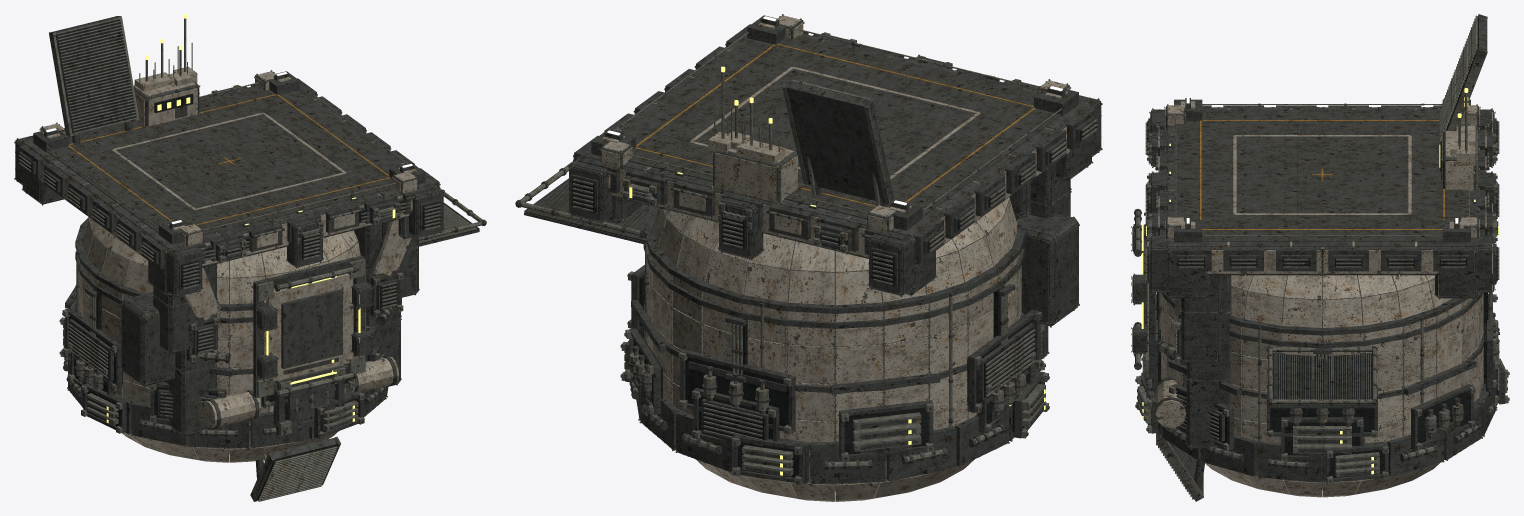
File: buoy.glb
3 renders of one model, left to right at view 1: azimuth 30°, elevation 25°; view 2: azimuth 150°, elevation 25°; view 3: azimuth 270°, elevation 25°, orthographic. The views are drawn at different scales.
Visible parts, largest first — view 1: static/landing-grey, static/dark-structure, static/cladding-dark-structure, static/machined-alloy, static/cladding-armour-1, static/recess-black, static/armour-1, static/blue-grey-1, static/cladding-armour-2, static/cladding-armour-0, static/cladding-armour-3, static/cladding-blue-grey-2 (+4 smaller); view 2: static/dark-structure, static/landing-grey, static/cladding-armour-1, static/cladding-dark-structure, static/machined-alloy, static/cladding-armour-0, static/recess-black, static/cladding-armour-2, static/cladding-armour-3, static/armour-1, static/cladding-blue-grey-2, static/service-ochre (+2 smaller); view 3: static/landing-grey, static/dark-structure, static/cladding-dark-structure, static/machined-alloy, static/cladding-armour-1, static/recess-black, static/cladding-armour-0, static/cladding-armour-3, static/armour-1, static/cladding-armour-2, static/cladding-blue-grey-1, static/cladding-blue-grey-0 (+3 smaller).
Boxes of the visible parts, x1,y1,x2,y2 form: static/landing-grey: (47,87,402,235); static/dark-structure: (15,16,486,500); static/cladding-dark-structure: (15,71,443,448); static/machined-alloy: (14,16,483,501); static/cladding-armour-1: (40,71,435,462); static/recess-black: (19,19,478,499); static/armour-1: (42,66,416,428); static/blue-grey-1: (281,289,342,421); static/cladding-armour-2: (79,91,345,396); static/cladding-armour-0: (54,99,372,425); static/cladding-armour-3: (40,86,409,411); static/cladding-blue-grey-2: (24,140,434,248); static/dark-structure: (515,15,1101,491); static/landing-grey: (620,35,1061,219); static/cladding-armour-1: (601,15,1069,501); static/cladding-dark-structure: (569,16,1101,483); static/machined-alloy: (519,14,1102,485); static/cladding-armour-0: (646,89,1052,421); static/recess-black: (525,63,1096,477); static/cladding-armour-2: (617,73,1021,419); static/cladding-armour-3: (653,40,1070,438); static/armour-1: (602,21,1067,213); static/cladding-blue-grey-2: (727,33,1090,236); static/service-ochre: (635,43,1035,206); static/landing-grey: (1176,109,1468,241); static/dark-structure: (1131,14,1509,501); static/cladding-dark-structure: (1132,106,1496,482); static/machined-alloy: (1131,14,1508,501); static/cladding-armour-1: (1165,105,1483,497); static/recess-black: (1147,18,1498,477); static/cladding-armour-0: (1161,108,1479,418); static/cladding-armour-3: (1161,148,1483,423); static/armour-1: (1147,101,1486,428); static/cladding-armour-2: (1165,128,1479,443); static/cladding-blue-grey-1: (1167,107,1477,246); static/cladding-blue-grey-0: (1167,135,1477,246).
Size of the model in its own units: 501 by 485 by 400.
Materials: 15 (13 with a texture image).
